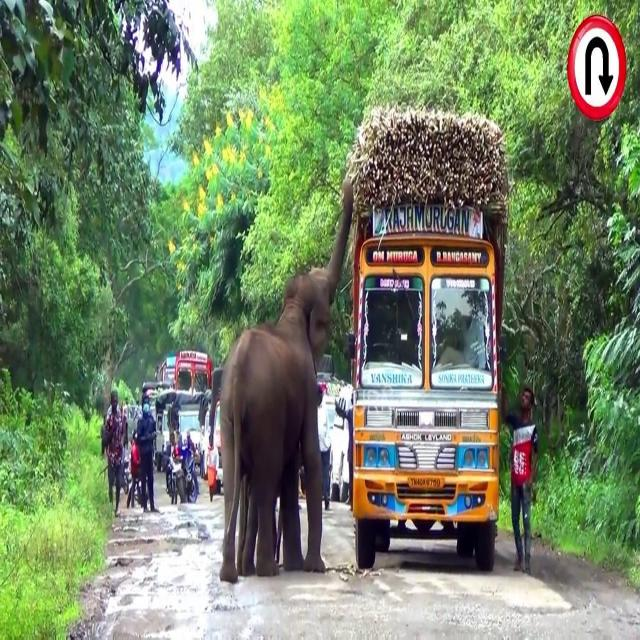Elephant: (218, 177, 354, 584)
